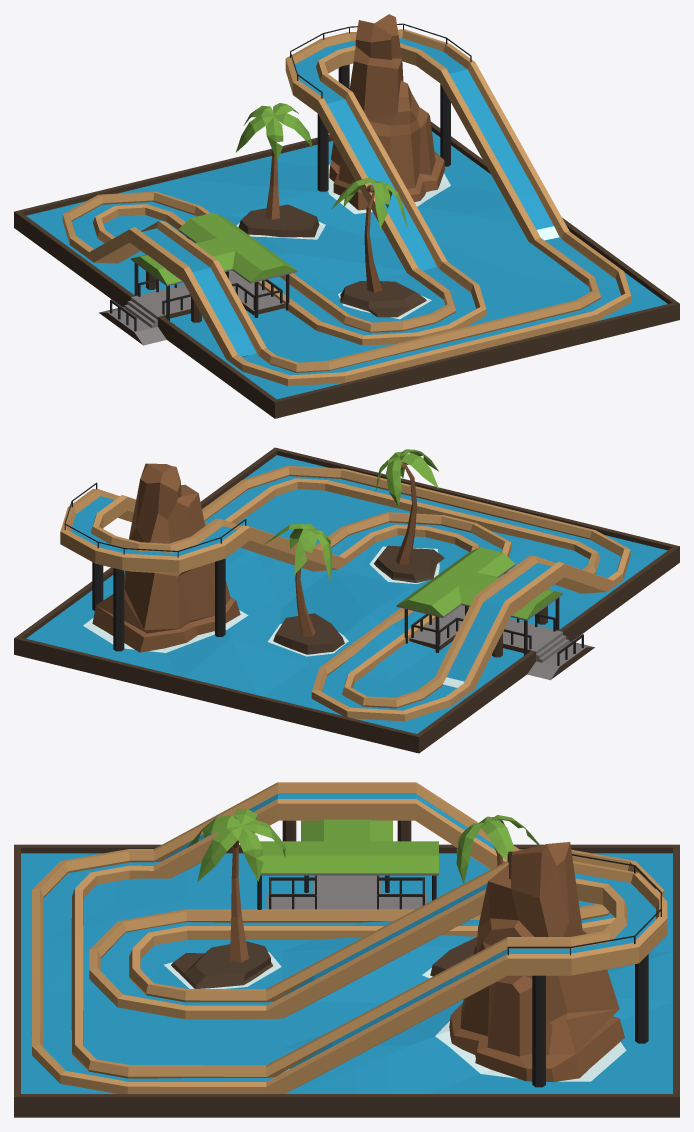
File: buildings_water-ride.fbx
3 renders of one model, top to bottom at view 1: azimuth 30°, elevation 25°; view 2: azimuth 150°, elevation 25°; view 3: azimuth 270°, elevation 25°, orthographic. The views are drawn at different scales.
Parts seen in each view (by area): view 1: buildings_water_ride; view 2: buildings_water_ride; view 3: buildings_water_ride.
Part boxes in pixels (x1=…): buildings_water_ride: x1=14, y1=14, x2=679, y2=418; buildings_water_ride: x1=14, y1=447, x2=679, y2=753; buildings_water_ride: x1=14, y1=782, x2=679, y2=1117.
Size of the model in its own units: 190 by 74.36 by 200.
